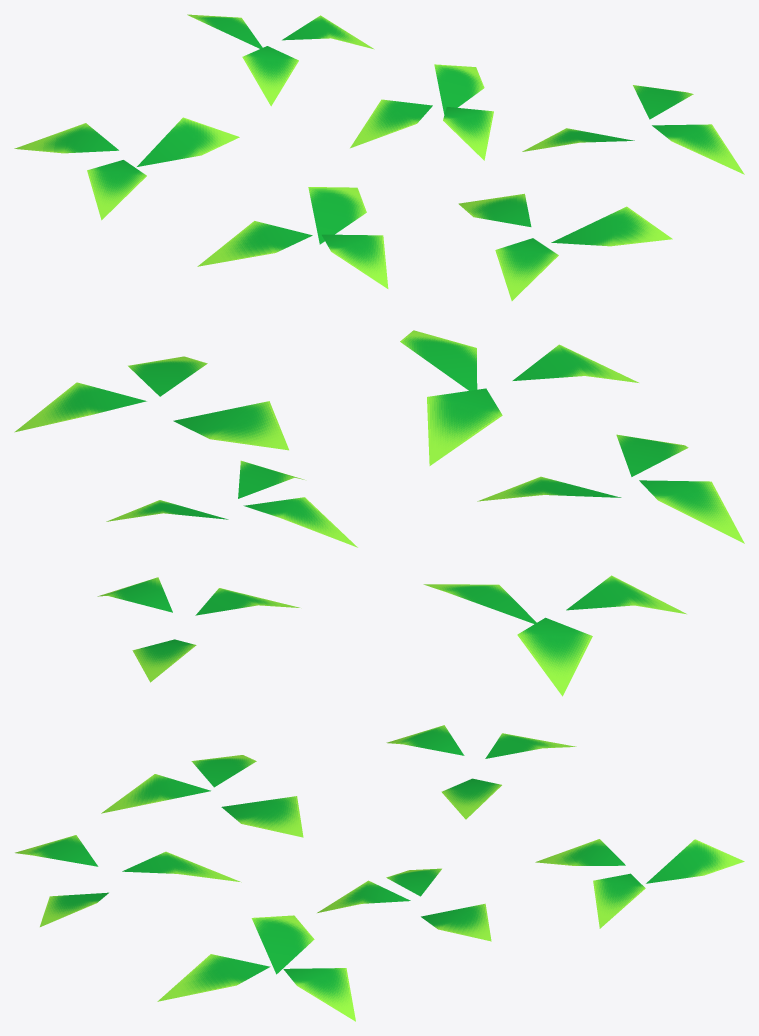
File: Grass_0_4.FBX
3 views of the same model, one above another, from view 1: azimuth 30°, elevation 25°; view 2: azimuth 150°, elevation 25°; view 3: azimuth 270°, elevation 25° (orthographic). The views are drawn at different scales.
Visible parts, largest first — view 1: NatureWideGrass; view 2: NatureWideGrass; view 3: NatureWideGrass.
Boxes of the visible parts, x1,y1,x2,y2 form: NatureWideGrass: (14, 14, 744, 300); NatureWideGrass: (14, 330, 744, 696); NatureWideGrass: (15, 725, 744, 1021).
Bounding box in the file's own units: 0.8891 × 0.0394 × 0.9848.
